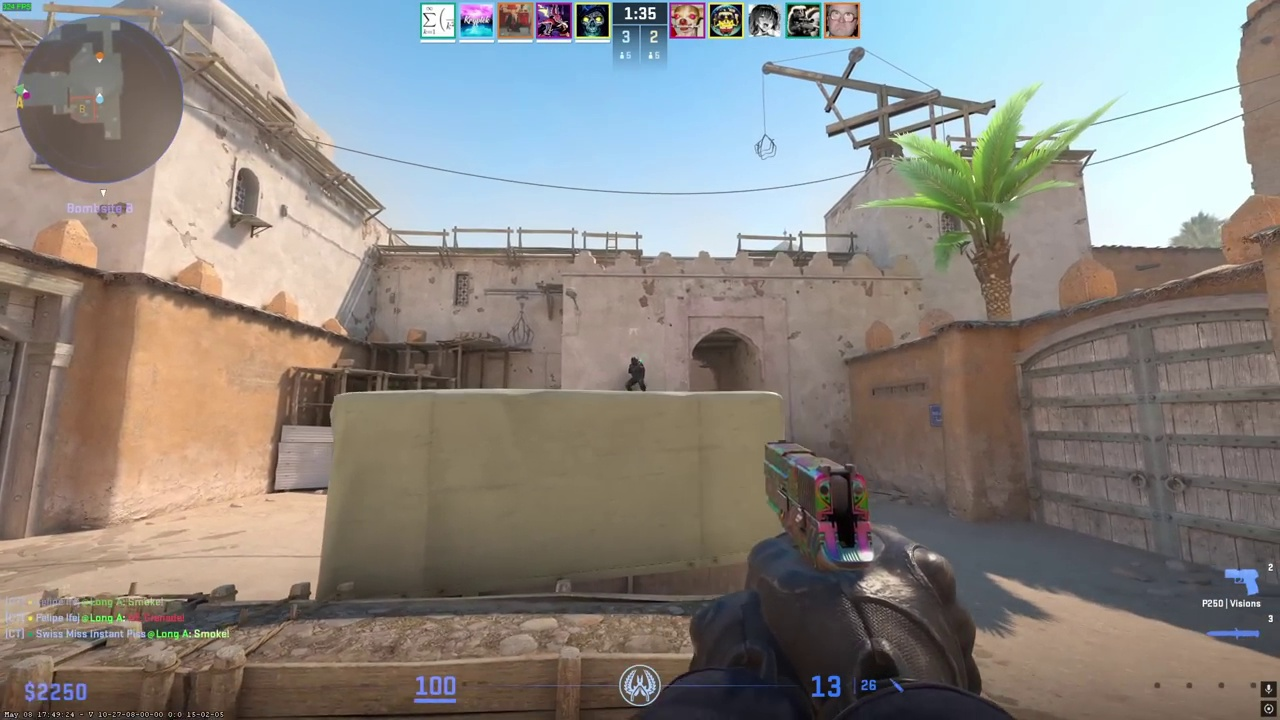CT: (625, 357, 646, 391)
